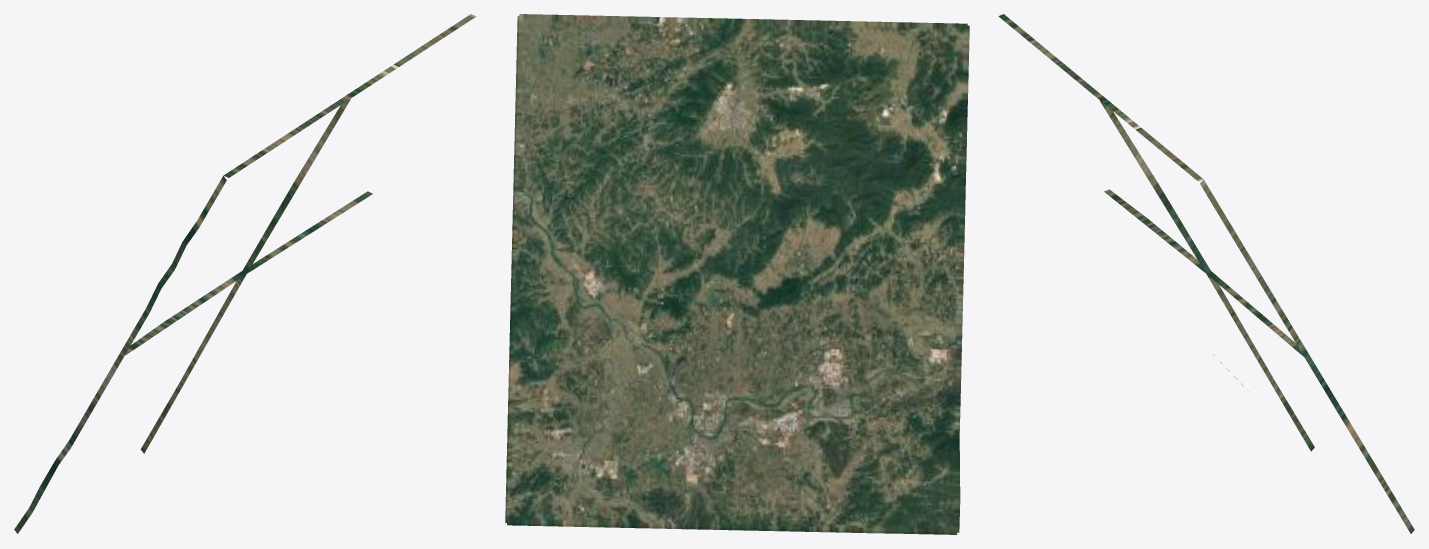
3 renders of one model, left to right at view 1: azimuth 30°, elevation 25°; view 2: azimuth 150°, elevation 25°; view 3: azimuth 270°, elevation 25°, orthographic. The views are drawn at different scales.
Bounding box in the file's own units: 79574 × 69533 × 65558.
Materials: 1 (1 with a texture image).
